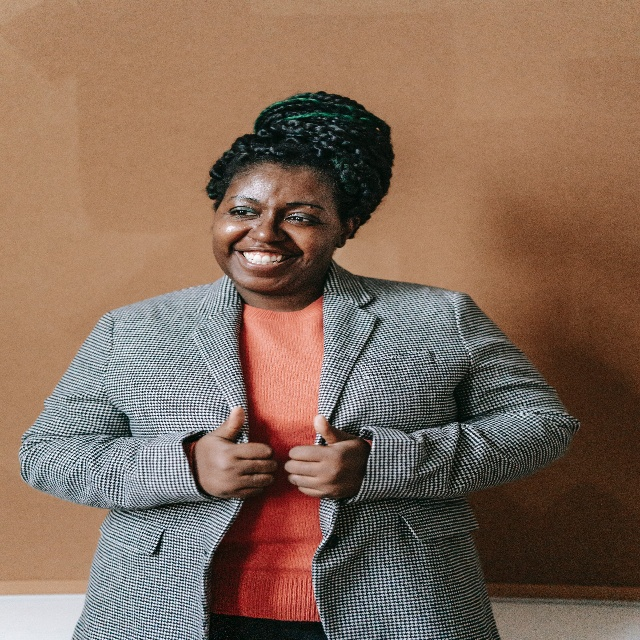Sin_guantes: (193, 406, 278, 500), (284, 414, 371, 499)
